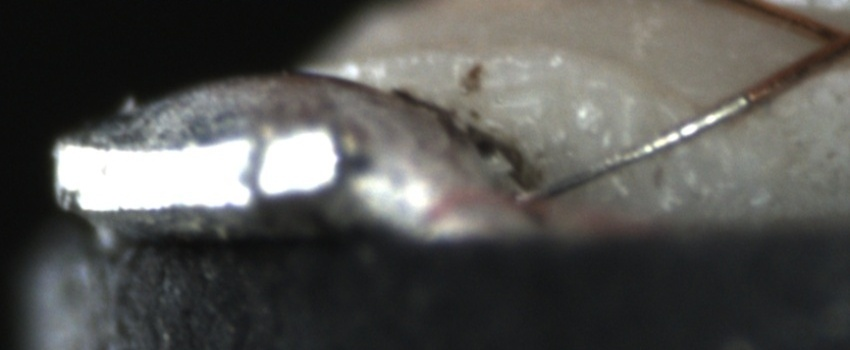CL: (799, 13, 850, 74)
TS: (518, 93, 753, 203)
